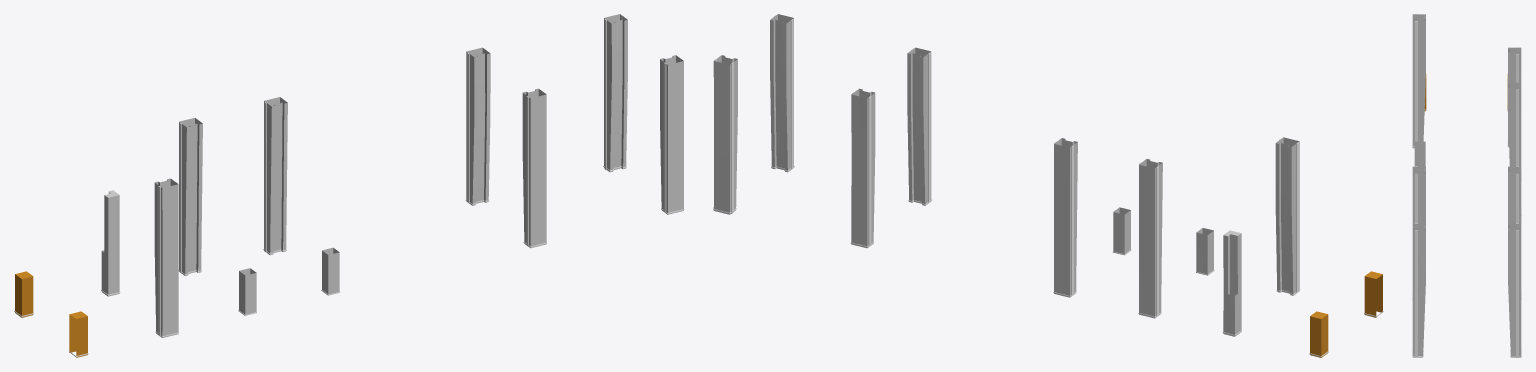
The model's file is SM_H_Building_Tide_Dock_05_ATLAS.fbx.
3 views of the same model, side by side, from view 1: azimuth 30°, elevation 25°; view 2: azimuth 150°, elevation 25°; view 3: azimuth 270°, elevation 25° (orthographic). The views are drawn at different scales.
Parts seen in each view (by area): view 1: SM_H_Building_Tide_Dock_05_ATLAS; view 2: SM_H_Building_Tide_Dock_05_ATLAS; view 3: SM_H_Building_Tide_Dock_05_ATLAS.
Boxes of the visible parts, x1,y1,x2,y2 form: SM_H_Building_Tide_Dock_05_ATLAS: (14, 14, 684, 357); SM_H_Building_Tide_Dock_05_ATLAS: (713, 14, 1383, 357); SM_H_Building_Tide_Dock_05_ATLAS: (1412, 14, 1521, 357).
Size of the model in its own units: 9248 by 1701 by 2184.
